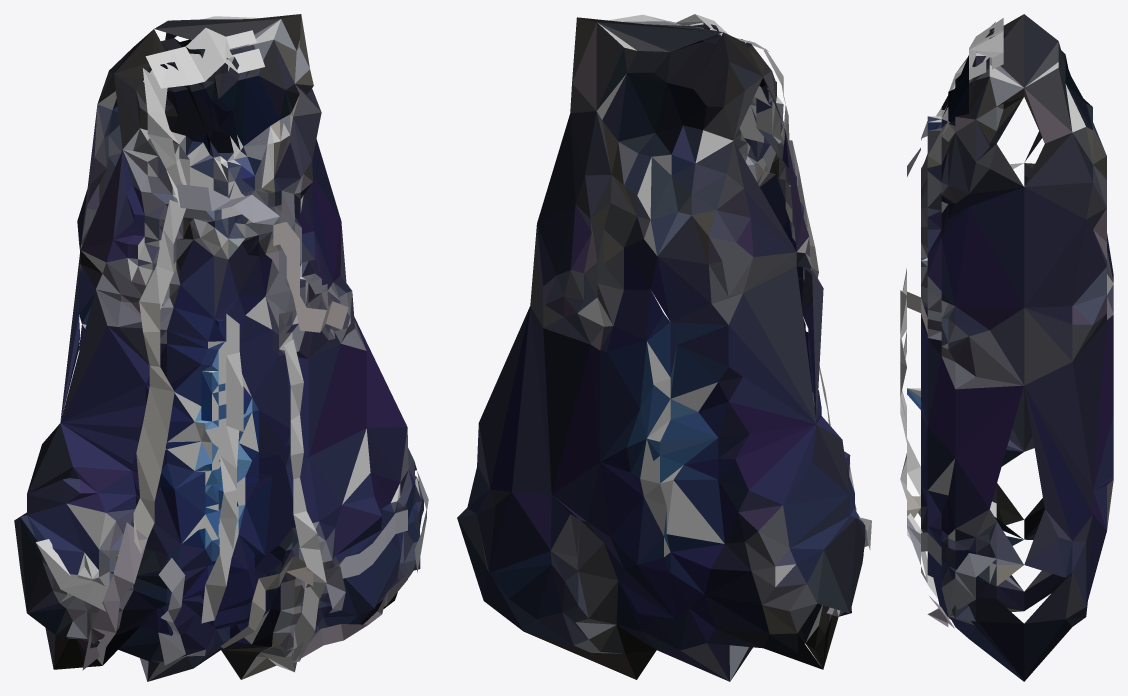
Rendered from B10_6_runeweaver_robe_skirt.obj.
3 renders of one model, left to right at view 1: azimuth 30°, elevation 25°; view 2: azimuth 150°, elevation 25°; view 3: azimuth 270°, elevation 25°, orthographic. The views are drawn at different scales.
Parts seen in each view (by area): view 1: B10_6_runeweaver_robe_skirt; view 2: B10_6_runeweaver_robe_skirt; view 3: B10_6_runeweaver_robe_skirt.
Boxes of the visible parts, x1,y1,x2,y2 form: B10_6_runeweaver_robe_skirt: (14,14,428,681); B10_6_runeweaver_robe_skirt: (457,14,871,681); B10_6_runeweaver_robe_skirt: (900,14,1113,681).
Size of the model in its own units: 60 by 96 by 31.
